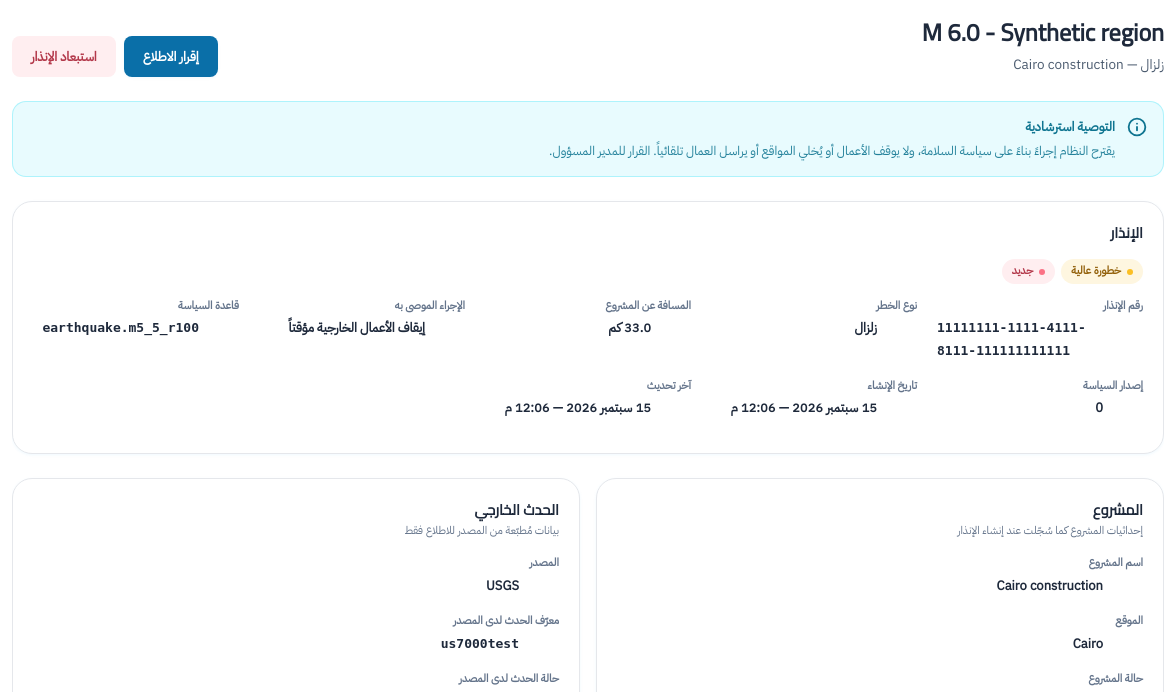
Scenario: SafetyAlertDetailPage › acknowledges and renders the server response, including an idempotent 200
Click the button "إقرار الاطلاع" at (171, 57), box x1=124 y1=36 x2=218 y2=77
(page scrolled)
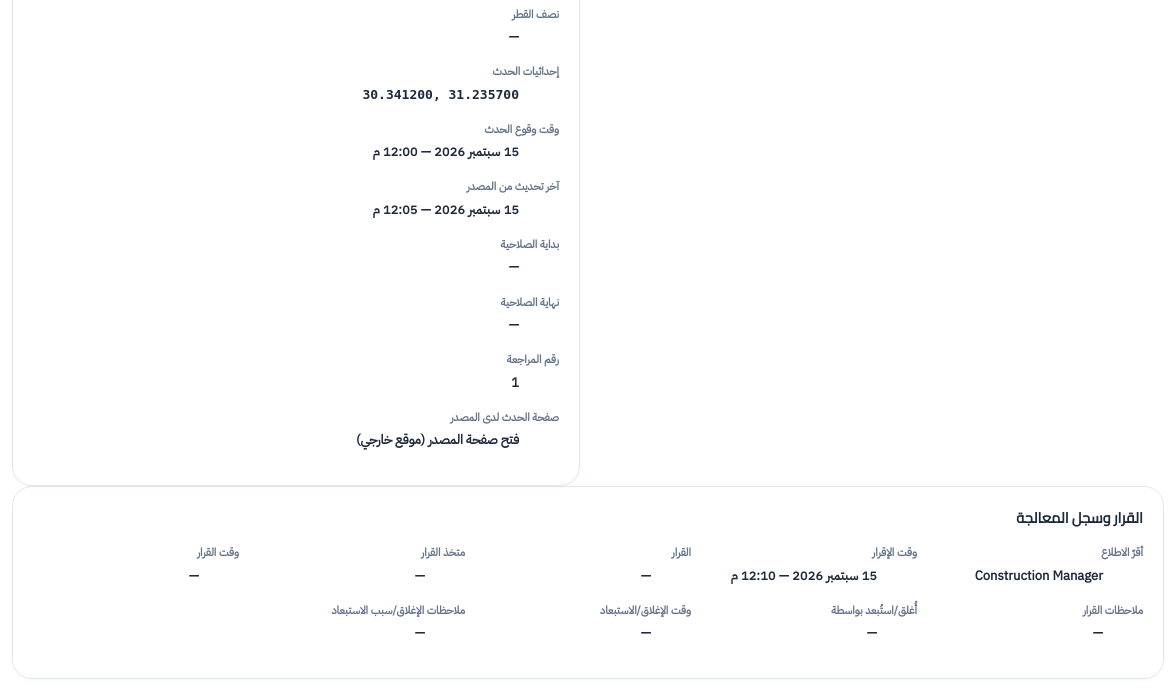
Result: the text "Construction Manager" is shown at x1=975 y1=566 x2=1103 y2=585
